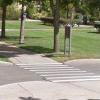Crosswalk: (8, 48, 95, 94)
